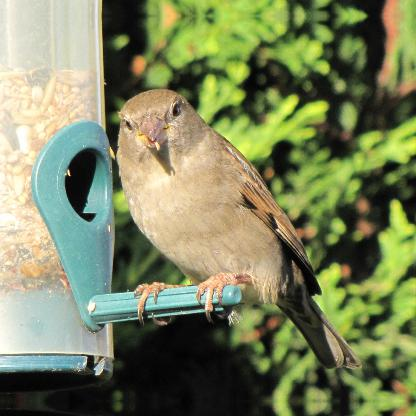Bird: (110, 87, 340, 367)
